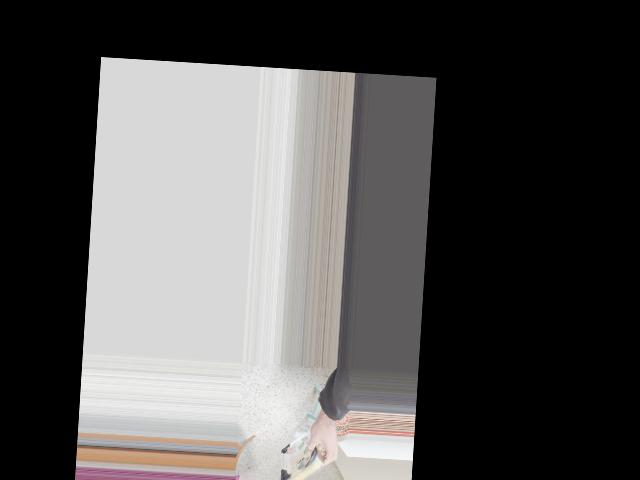cheese: (261, 432, 342, 480)
